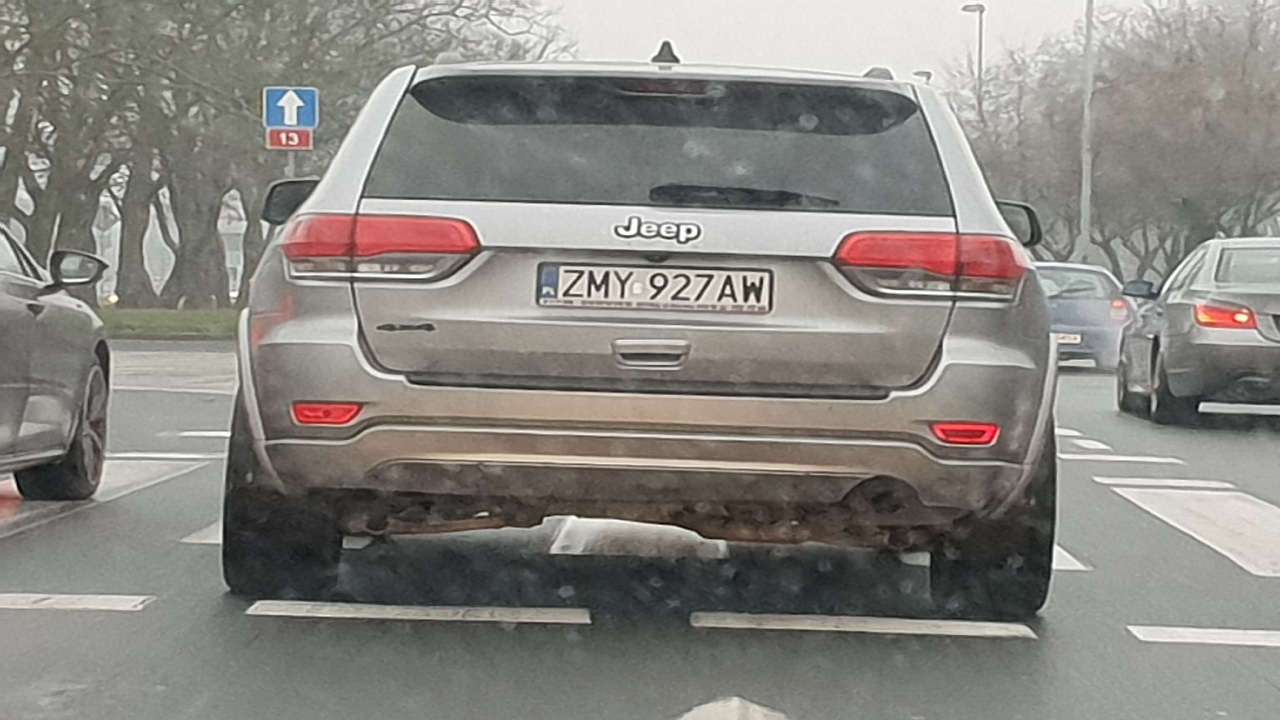D3: (253, 80, 327, 127)
